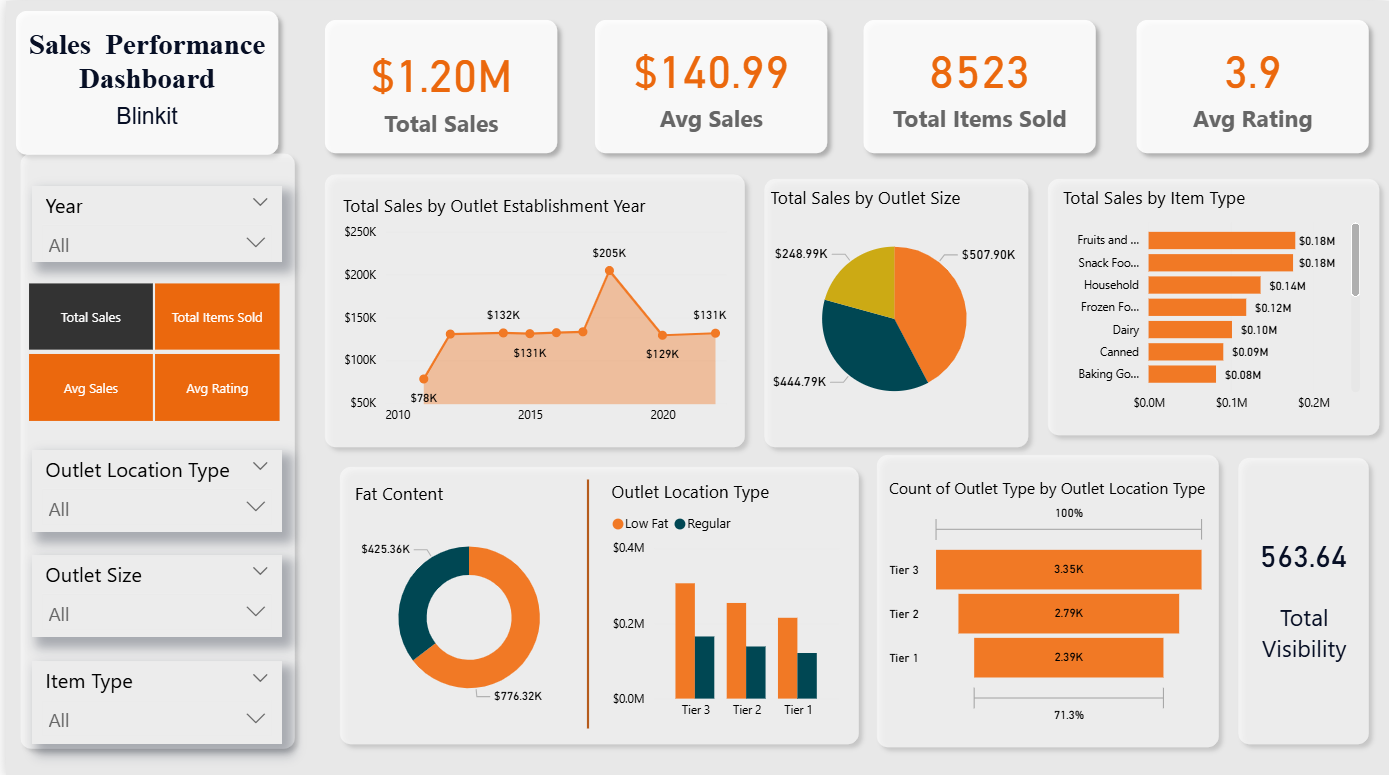

The dashboard page shown, as its layout file describes it:
{"tool":"powerbi","page":{"name":"BlinkIT Dashboard","canvas":[1280,720],"ordinal":0},"visuals":[{"type":"shape","box":[0,0,261.1,151.4],"z":0},{"type":"shape","box":[285.6,7.9,233.3,141.7],"z":1000},{"type":"textbox","box":[13.9,19.4,233.3,95.8],"z":2000},{"type":"textbox","box":[13.9,88.9,233.3,43.1],"z":3000},{"type":"card","fields":{"Values":["all measures.Total Sales"]},"box":[298.1,26.9,208.3,105.6],"z":4000},{"type":"shape","box":[535.6,7.9,233.3,141.7],"z":5000},{"type":"card","fields":{"Values":["all measures.Avg Sales"]},"box":[548.1,22.7,208.3,105.6],"z":6000},{"type":"shape","box":[784.3,7.9,233.3,141.7],"z":7000},{"type":"card","fields":{"Values":["all measures.Total Items Sold"]},"box":[796.8,22.7,208.3,105.6],"z":8000},{"type":"shape","box":[1037,7.9,233.3,141.7],"z":9000},{"type":"card","fields":{"Values":["all measures.Avg Rating"]},"box":[1049.5,22.7,208.3,105.6],"z":10000},{"type":"shape","box":[300.5,421.8,498.6,275],"z":11000},{"type":"donutChart","title":" Fat Content","fields":{"Y":["all measures.Total Sales"],"Category":["BlinkIT Grocery Data.Item Fat Content"]},"box":[318.1,444.4,220.8,230.6],"z":12000},{"type":"clusteredColumnChart","title":"Outlet Location Type ","fields":{"Y":["all measures.Total Sales"],"Category":["BlinkIT Grocery Data.Outlet Location Type"],"Series":["BlinkIT Grocery Data.Item Fat Content"]},"box":[555.6,443.1,220.8,230.6],"z":13000},{"type":"shape","box":[797.2,411.1,334.7,288.9],"z":14000},{"type":"shape","box":[693.1,155.6,262.5,266.7],"z":15000},{"type":"shape","box":[286.1,151.4,406.9,270.8],"z":16000},{"type":"shape","box":[955.6,155.6,325,255.6],"z":17000},{"type":"shape","box":[4.2,131.9,272.2,569.4],"z":18000},{"type":"clusteredBarChart","fields":{"Y":["all measures.Total Sales"],"Category":["BlinkIT Grocery Data.Item Type"]},"box":[973.6,170.8,284.7,218.1],"z":19000},{"type":"slicer","fields":{"Values":["BlinkIT Grocery Data.Outlet Location Type"]},"box":[24.1,415.3,231.9,76.4],"z":20000},{"type":"lineChart","fields":{"Y":["all measures.Total Sales"],"Category":["BlinkIT Grocery Data.Outlet Establishment Year"]},"box":[306.9,177.8,366.7,222.2],"z":21000},{"type":"pieChart","fields":{"Y":["all measures.Total Sales"],"Category":["BlinkIT Grocery Data.Outlet Size"]},"box":[702.8,170.8,238.9,225],"z":22000},{"type":"slicer","fields":{"Values":["Sales.Sales"]},"box":[0,254.2,272.2,141.7],"z":23000},{"type":"funnel","fields":{"Category":["BlinkIT Grocery Data.Outlet Location Type","BlinkIT Grocery Data.Outlet Size"],"Y":["CountNonNull(BlinkIT Grocery Data.Outlet Type)"]},"box":[812.5,440.3,304.2,233.3],"z":24000},{"type":"shape","box":[1131.9,413.9,138.9,283.3],"z":25000},{"type":"card","title":"Total Visibility","fields":{"Values":["Sum(BlinkIT Grocery Data.Item Visibility)"]},"box":[1143.1,469.4,115.3,86.1],"z":26000},{"type":"shape","box":[529.2,443.1,19.4,230.6],"z":27000},{"type":"slicer","fields":{"Values":["BlinkIT Grocery Data.Outlet Size"]},"box":[24.1,512.5,231.9,76.4],"z":28000},{"type":"slicer","fields":{"Values":["BlinkIT Grocery Data.Item Type"]},"box":[24.1,611.1,231.9,76.4],"z":29000},{"type":"slicer","fields":{"Values":["BlinkIT Grocery Data.Outlet Establishment Year"]},"box":[23.6,170.8,231.9,70.8],"z":30000},{"type":"textbox","box":[1152.8,550,98.6,77.8],"z":31000}]}

Visuals, with their boxes in screenshot pixels (x1, y1, x2, y2), scaled from the page's 1280x720 canvas onto the 1389x775 screenshot:
shape: box(0, 0, 283, 163)
shape: box(310, 9, 563, 161)
textbox: box(15, 21, 268, 124)
textbox: box(15, 96, 268, 142)
card - all measures.Total Sales: box(323, 29, 550, 143)
shape: box(581, 9, 834, 161)
card - all measures.Avg Sales: box(595, 24, 821, 138)
shape: box(851, 9, 1104, 161)
card - all measures.Total Items Sold: box(865, 24, 1091, 138)
shape: box(1125, 9, 1378, 161)
card - all measures.Avg Rating: box(1139, 24, 1365, 138)
shape: box(326, 454, 867, 750)
" Fat Content" donutChart: box(345, 478, 585, 727)
"Outlet Location Type " clusteredColumnChart: box(603, 477, 843, 725)
shape: box(865, 443, 1228, 753)
shape: box(752, 167, 1037, 455)
shape: box(310, 163, 752, 454)
shape: box(1037, 167, 1388, 443)
shape: box(5, 142, 300, 755)
clusteredBarChart - all measures.Total Sales x BlinkIT Grocery Data.Item Type: box(1057, 184, 1365, 419)
slicer - BlinkIT Grocery Data.Outlet Location Type: box(26, 447, 278, 529)
lineChart - all measures.Total Sales x BlinkIT Grocery Data.Outlet Establishment Year: box(333, 191, 731, 431)
pieChart - all measures.Total Sales x BlinkIT Grocery Data.Outlet Size: box(763, 184, 1022, 426)
slicer - Sales.Sales: box(0, 274, 295, 426)
funnel - BlinkIT Grocery Data.Outlet Location Type x BlinkIT Grocery Data.Outlet Size: box(882, 474, 1212, 725)
shape: box(1228, 446, 1379, 750)
"Total Visibility" card: box(1240, 505, 1366, 598)
shape: box(574, 477, 595, 725)
slicer - BlinkIT Grocery Data.Outlet Size: box(26, 552, 278, 634)
slicer - BlinkIT Grocery Data.Item Type: box(26, 658, 278, 740)
slicer - BlinkIT Grocery Data.Outlet Establishment Year: box(26, 184, 277, 260)
textbox: box(1251, 592, 1358, 676)
